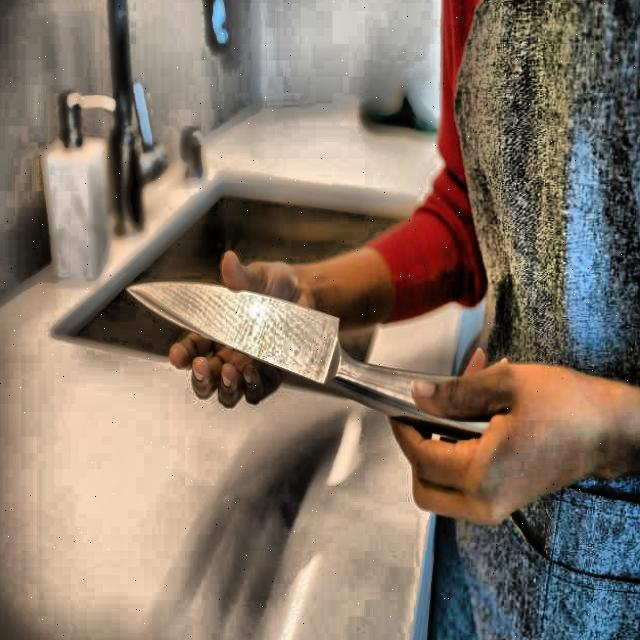knife: (125, 272, 513, 430)
